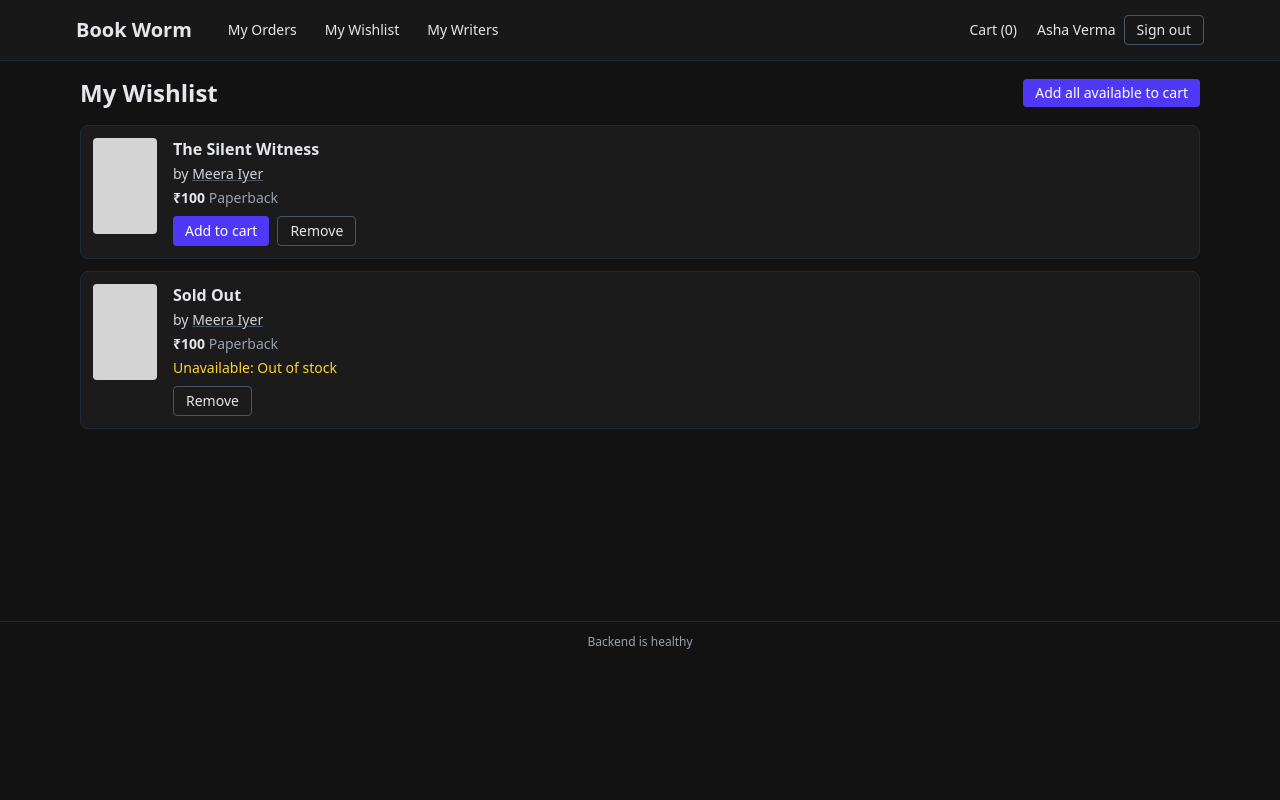
it: My Wishlist page › adds all available books and reports the skipped ones with reasons
Click the button "Add all available to cart" at (1112, 93), box left=1023, top=79, right=1200, bottom=107
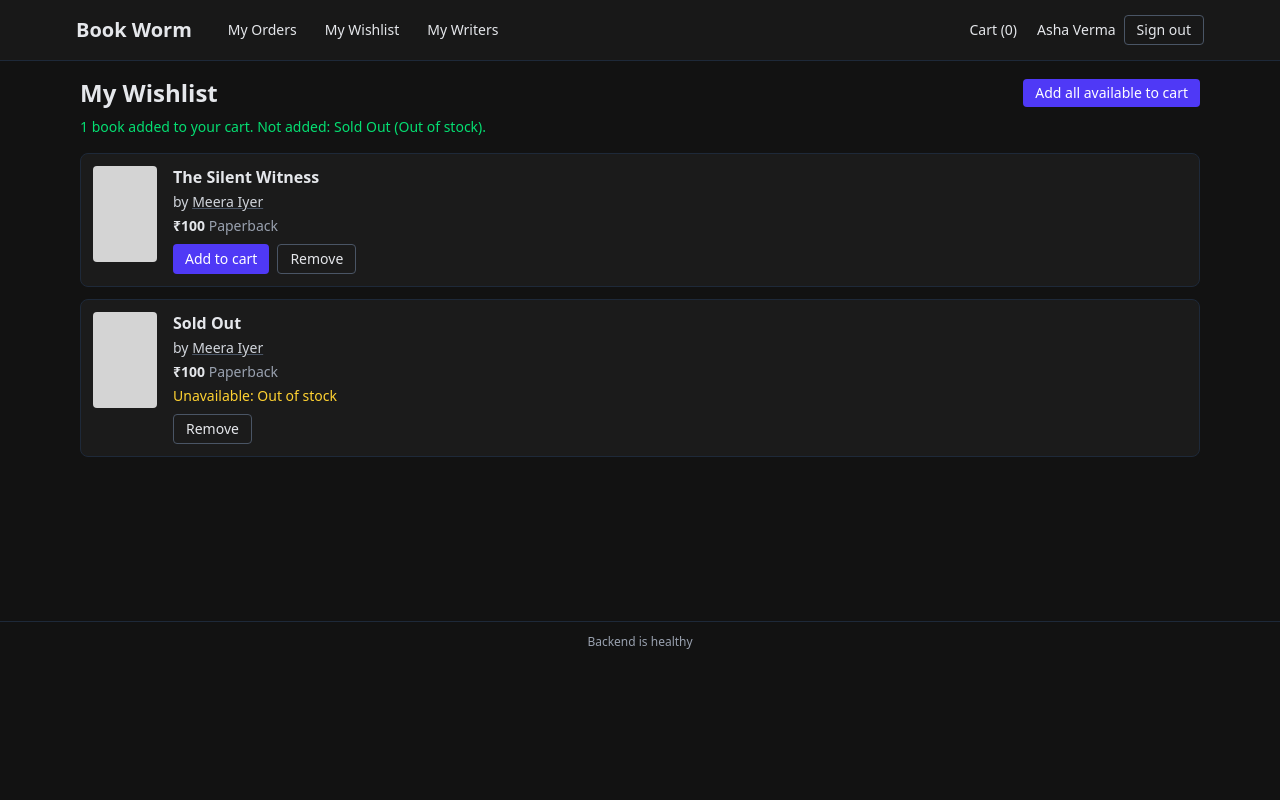
Expected: the text "1 book added to your cart. Not added: Sold Out (Out of stock)." is shown, left=80, top=117, right=486, bottom=136
